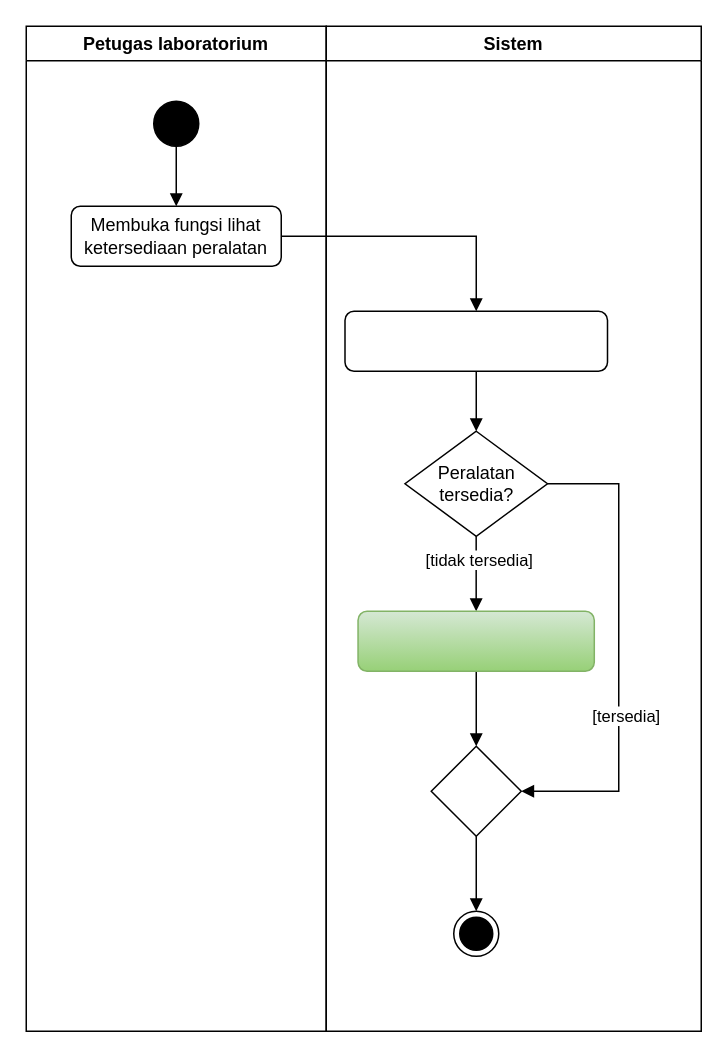
This 728x1058 diagram has some shape labels left out. The centre of each missing label's shape, as x and y in pixels:
"Menampilkan data perlatan beserta status ketersediaannya" goes at [476,340].
"Menampilkan pesan tidak ada peralatan ynag tersedia" goes at [475,640].
